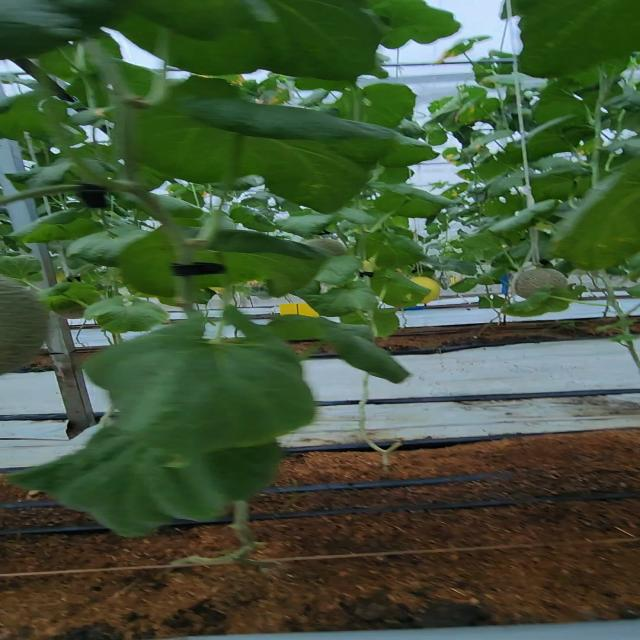Melon: (511, 268, 573, 295)
